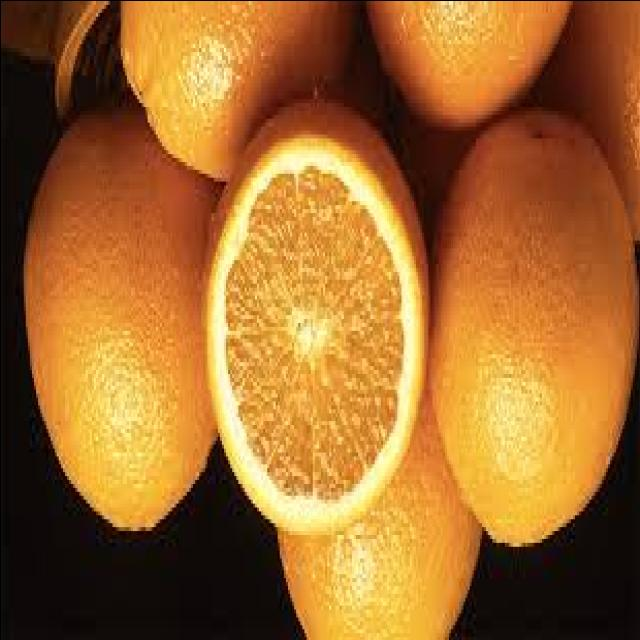orange: (199, 128, 421, 524), (431, 134, 631, 546)
